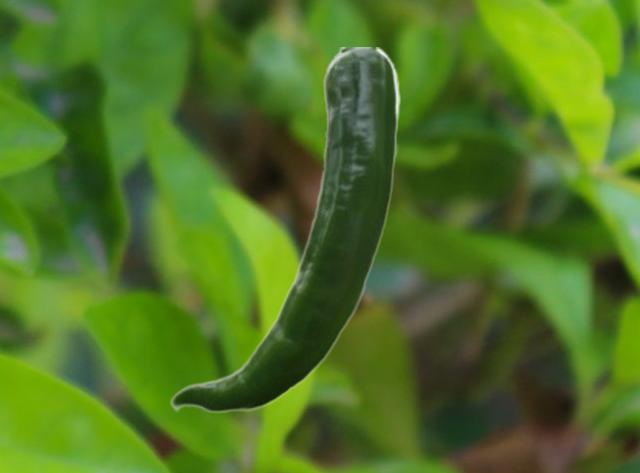green_chili: (169, 47, 400, 413)
